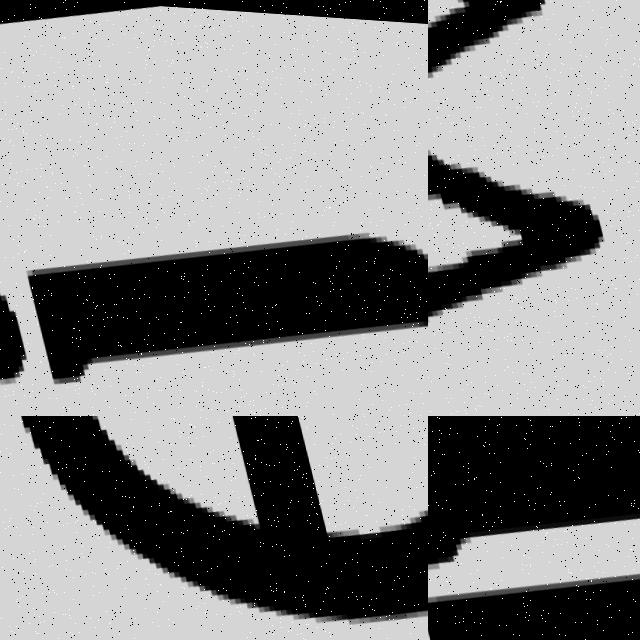E: (16, 416, 428, 613)
J: (0, 173, 428, 416)
U: (428, 416, 640, 640)
W: (428, 0, 640, 416)
